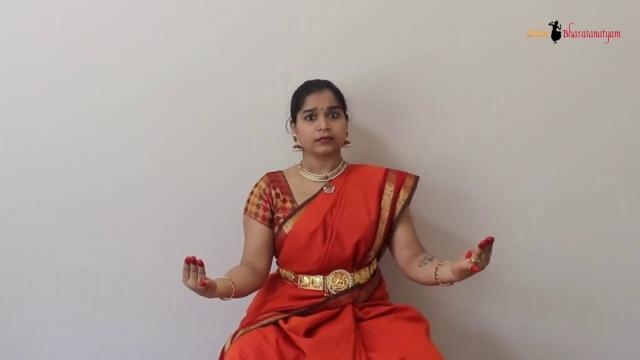chatur: (437, 223, 505, 291), (179, 245, 225, 303)
